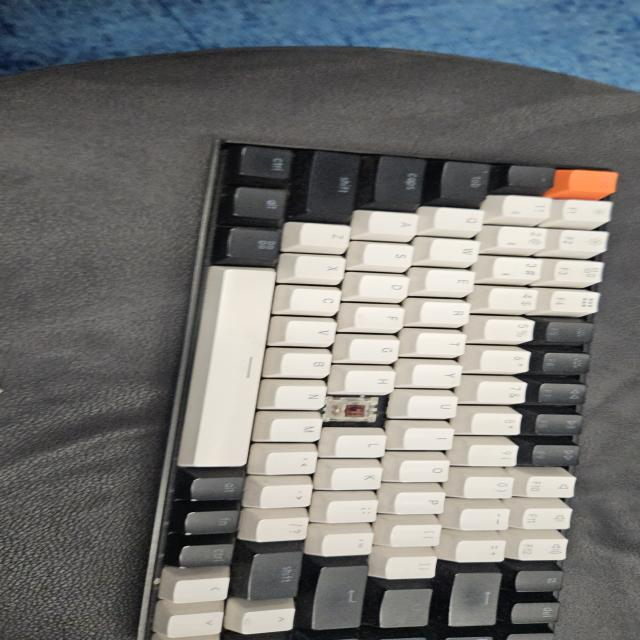C: (330, 399, 379, 424), (336, 399, 373, 422)
